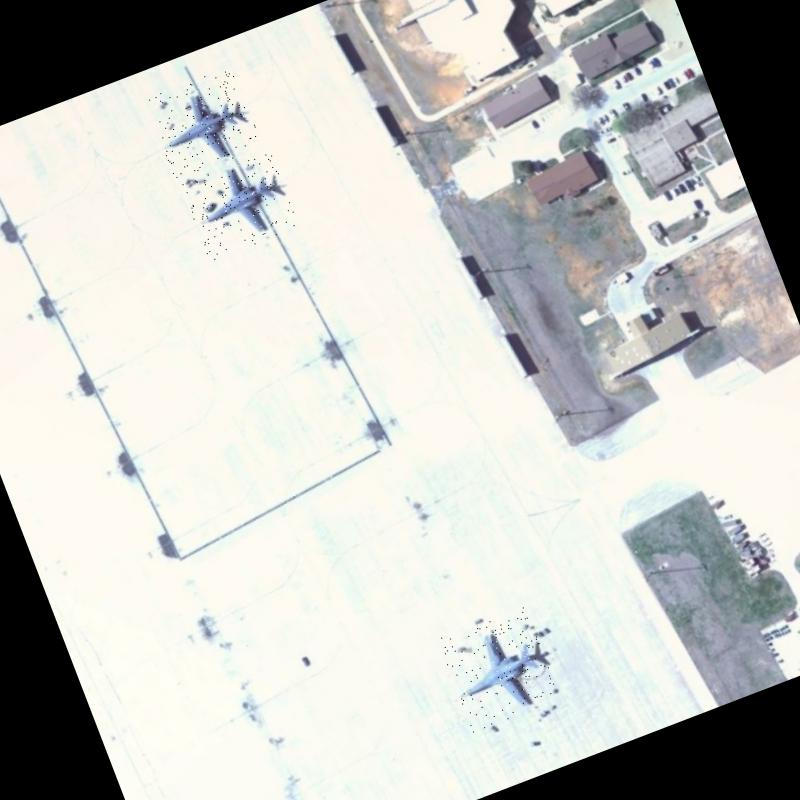A10: (437, 605, 561, 732), (144, 64, 265, 180), (180, 149, 301, 261)
